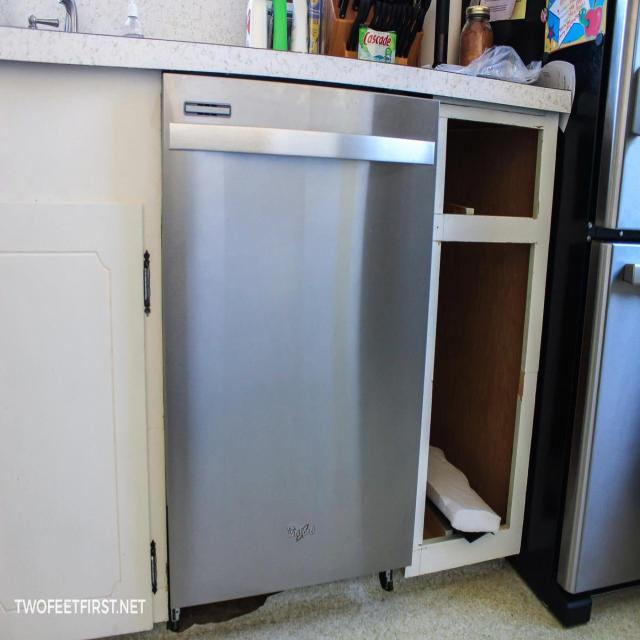dishwasher: (156, 86, 441, 625)
